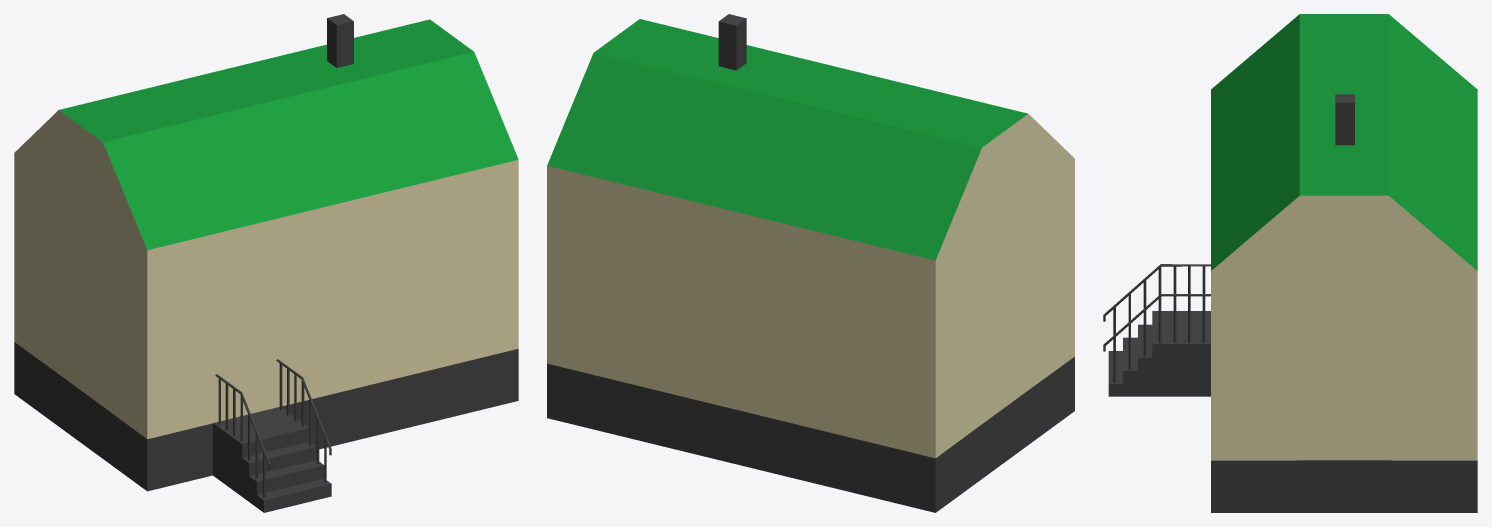
File: Rowhouse.fbx
The picture shows the model from 3 angles, left to right: view 1: azimuth 30°, elevation 25°; view 2: azimuth 150°, elevation 25°; view 3: azimuth 270°, elevation 25°; orthographic projection. The views are drawn at different scales.
Visible parts, largest first — view 1: Cube; view 2: Cube; view 3: Cube.
Part boxes in pixels (left/top/right/bottom): Cube: left=14, top=14, right=518, bottom=512; Cube: left=547, top=14, right=1074, bottom=512; Cube: left=1103, top=14, right=1477, bottom=512.
Size of the model in its own units: 1860 by 1721 by 1620.
